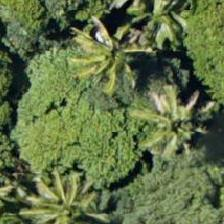coconut_tree: (130, 81, 220, 171), (61, 6, 151, 96), (21, 165, 111, 223)
